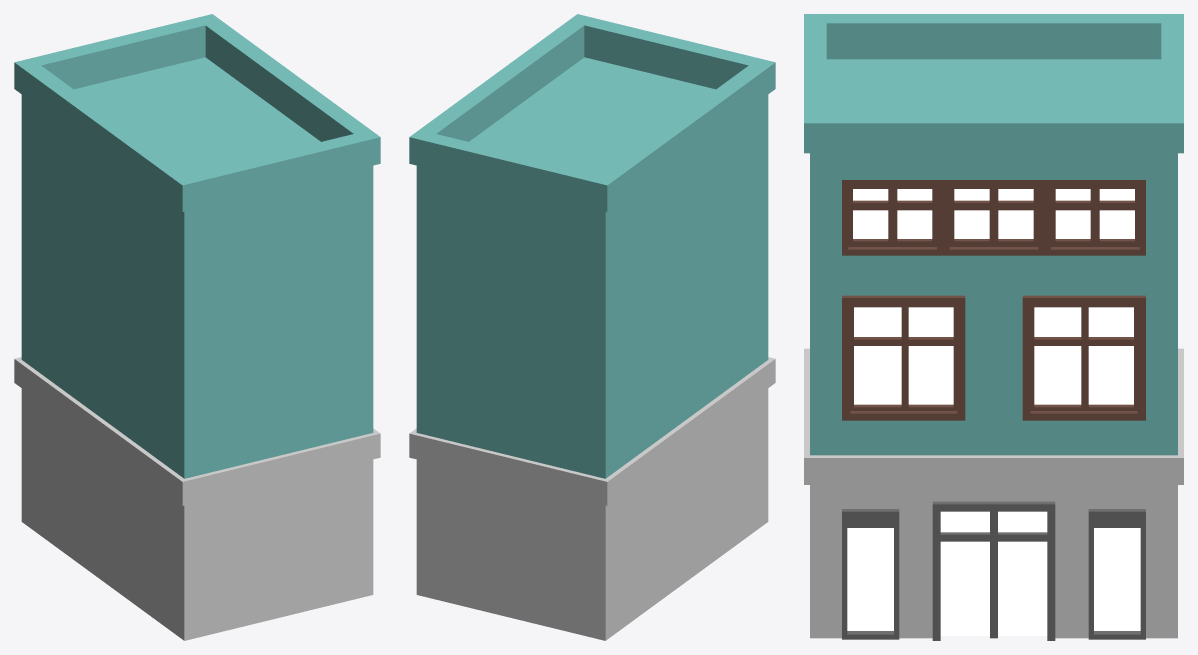
File: House 5.2.fbx
The picture shows the model from 3 angles, left to right: view 1: azimuth 30°, elevation 25°; view 2: azimuth 150°, elevation 25°; view 3: azimuth 270°, elevation 25°; orthographic projection. The views are drawn at different scales.
Visible parts, largest first — view 1: House 5.003; view 2: House 5.003; view 3: House 5.003.
Part boxes in pixels (box(x1,y1,x2,y2)): House 5.003: box(14, 14, 380, 640); House 5.003: box(409, 14, 775, 640); House 5.003: box(804, 14, 1183, 640).
Bounding box in the file's own units: 869 × 1923 × 1279.
